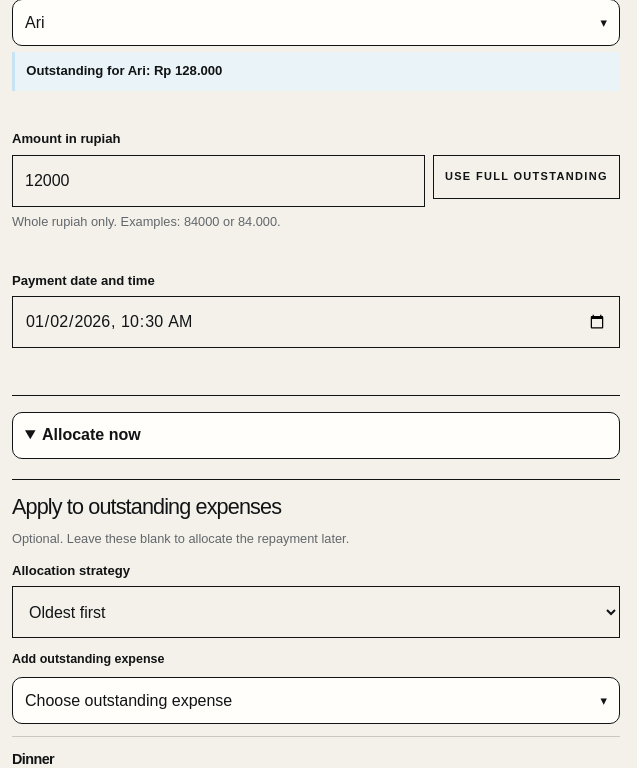
Scenario: RepaymentForm › caps full-outstanding automatic allocations at the available share balances
Click the button "Use full outstanding": (526, 176) [433, 154, 620, 198]
(page scrolled)
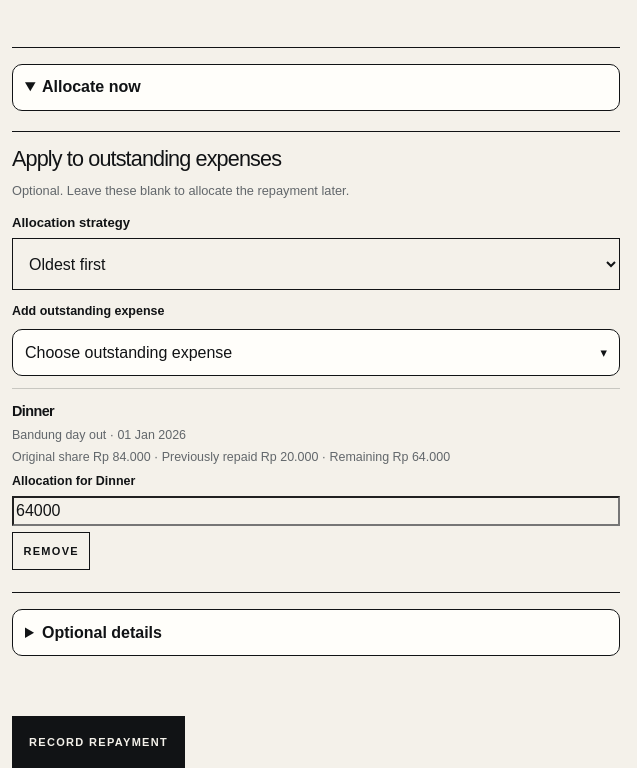
Expected: the field labelled "Allocation for Dinner" holds "64000", [12, 496, 620, 526]
